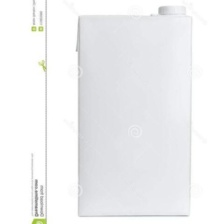carton: (73, 2, 197, 219)
